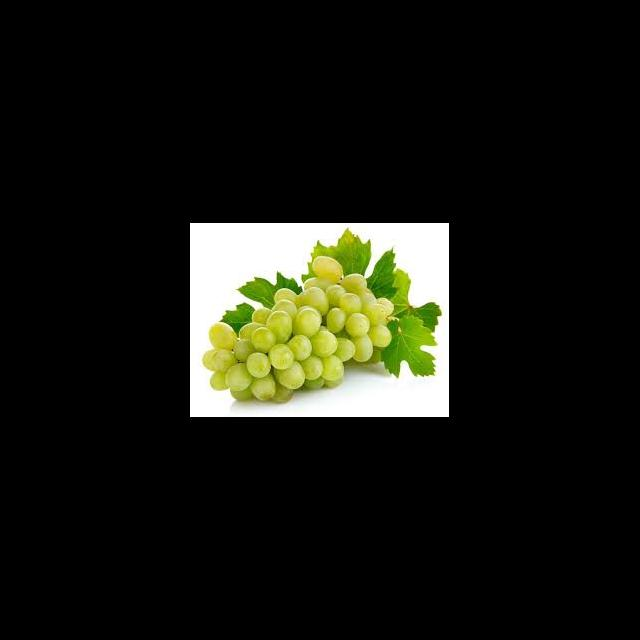grape: (202, 255, 394, 402)
